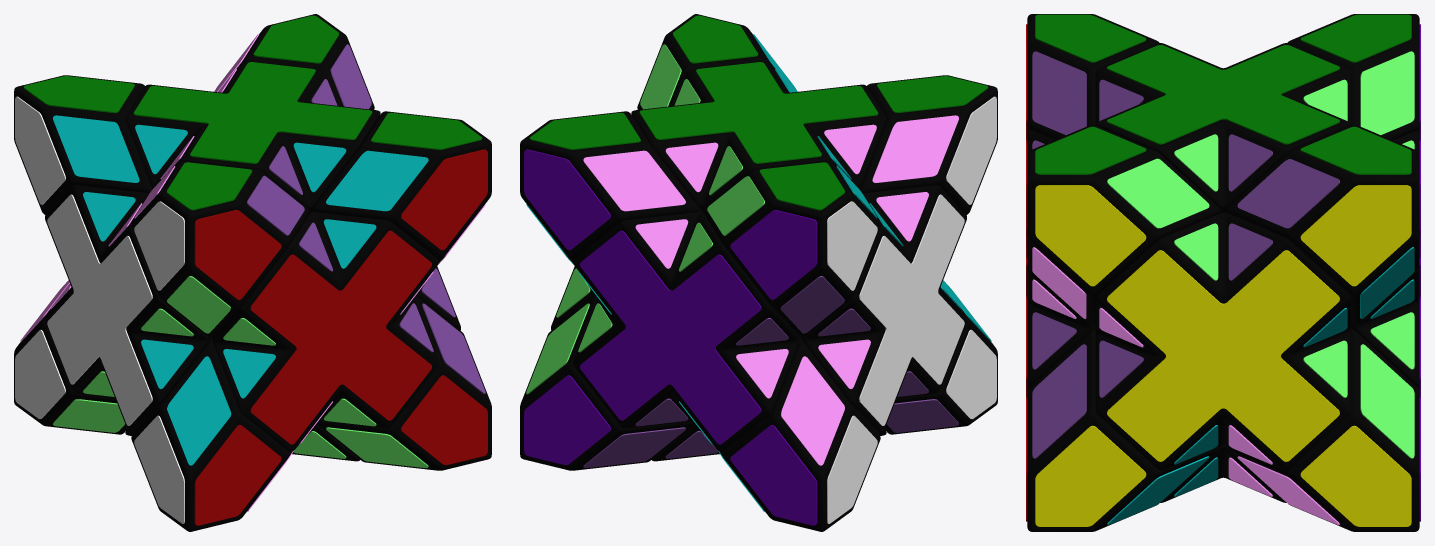
Rendered from skewb_xtreme.glb.
The picture shows the model from 3 angles, left to right: view 1: azimuth 30°, elevation 25°; view 2: azimuth 150°, elevation 25°; view 3: azimuth 270°, elevation 25°; orthographic projection. The views are drawn at different scales.
Parts seen in each view (by area): view 1: Piece.004, Piece.003, Piece.005, Piece.008, Piece.011, Piece.009, Piece.002, Piece.014, Piece.012, Piece.010, Piece.007, Piece.006; view 2: Piece.001, Piece.003, Piece.005, Piece.002, Piece.012, Piece.010, Piece.008, Piece.013, Piece.011, Piece.009, Piece.007, Piece.006; view 3: Piece.006, Piece.005, Piece.009, Piece.010, Piece.013, Piece.014, Piece.002, Piece.008, Piece.001, Piece.004, Piece.007.
Part boxes in pixels (x1,y1,x2,y2): Piece.004: (212, 212, 438, 452); Piece.003: (45, 185, 210, 433); Piece.005: (125, 60, 380, 210); Piece.008: (131, 161, 309, 338); Piece.011: (131, 337, 294, 531); Piece.009: (309, 111, 491, 264); Piece.002: (14, 75, 152, 214); Piece.014: (316, 295, 491, 470); Piece.012: (14, 280, 127, 434); Piece.010: (214, 14, 374, 109); Piece.007: (125, 424, 359, 461); Piece.006: (416, 266, 460, 330); Piece.001: (573, 212, 799, 452); Piece.003: (801, 185, 966, 433); Piece.005: (631, 60, 886, 210); Piece.002: (702, 161, 880, 338); Piece.012: (717, 337, 880, 531); Piece.010: (520, 111, 702, 264); Piece.008: (859, 75, 997, 214); Piece.013: (520, 295, 695, 470); Piece.011: (884, 280, 997, 434); Piece.009: (637, 14, 797, 109); Piece.007: (652, 424, 886, 461); Piece.006: (551, 266, 595, 330); Piece.006: (1095, 212, 1351, 470); Piece.005: (1095, 43, 1351, 212); Piece.009: (1026, 124, 1220, 325); Piece.010: (1226, 124, 1420, 325); Piece.013: (1226, 329, 1420, 531); Piece.014: (1026, 329, 1220, 531); Piece.002: (1287, 14, 1420, 140); Piece.008: (1026, 14, 1159, 140); Piece.001: (1351, 130, 1420, 397); Piece.004: (1026, 130, 1095, 397); Piece.007: (1160, 445, 1286, 502).
Bounding box in the file's own units: 3.02 × 3.02 × 3.02.
